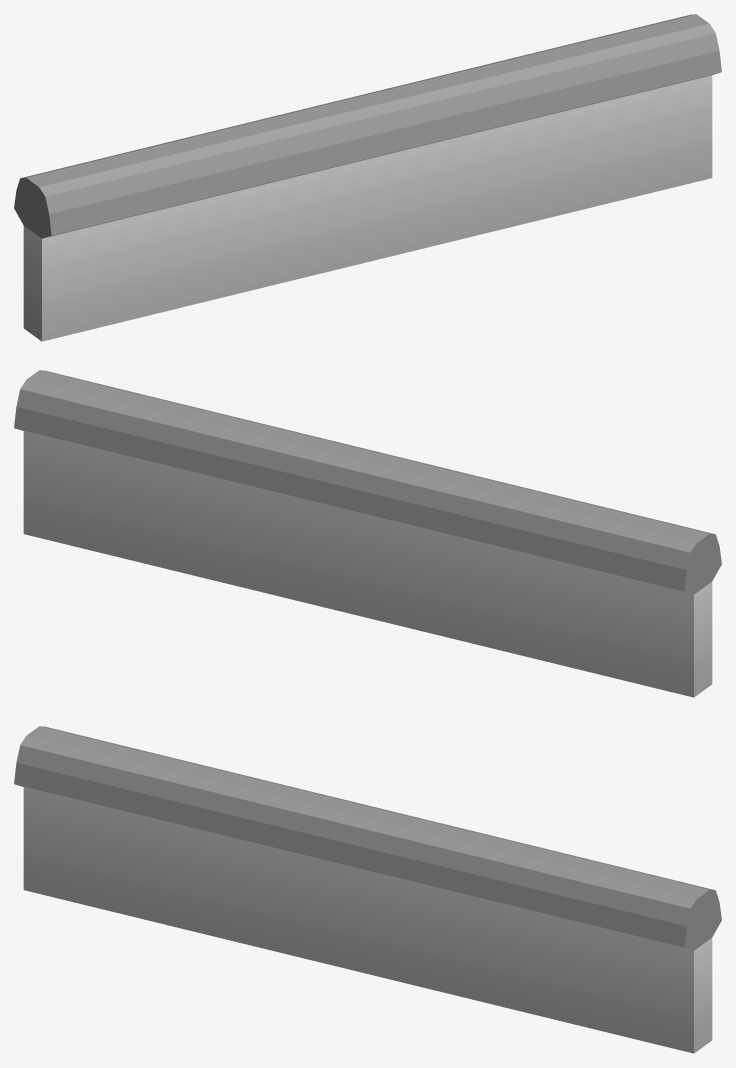
File: wall_blendshapes.fbx
3 renders of one model, top to bottom at view 1: azimuth 30°, elevation 25°; view 2: azimuth 150°, elevation 25°; view 3: azimuth 330°, elevation 25°, orthographic.
Parts seen in each view (by area): view 1: wall; view 2: wall; view 3: wall.
Boxes of the visible parts, box(x1,y1,x2,y2) form: wall: box(14, 14, 721, 341); wall: box(14, 370, 721, 697); wall: box(14, 726, 721, 1053).
Bounding box in the file's own units: 1066 × 232 × 104.
